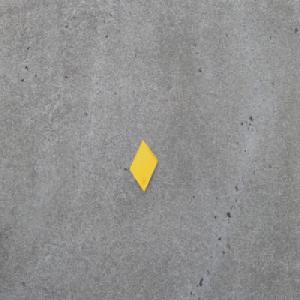PlasticPart: (129, 139, 158, 192)
